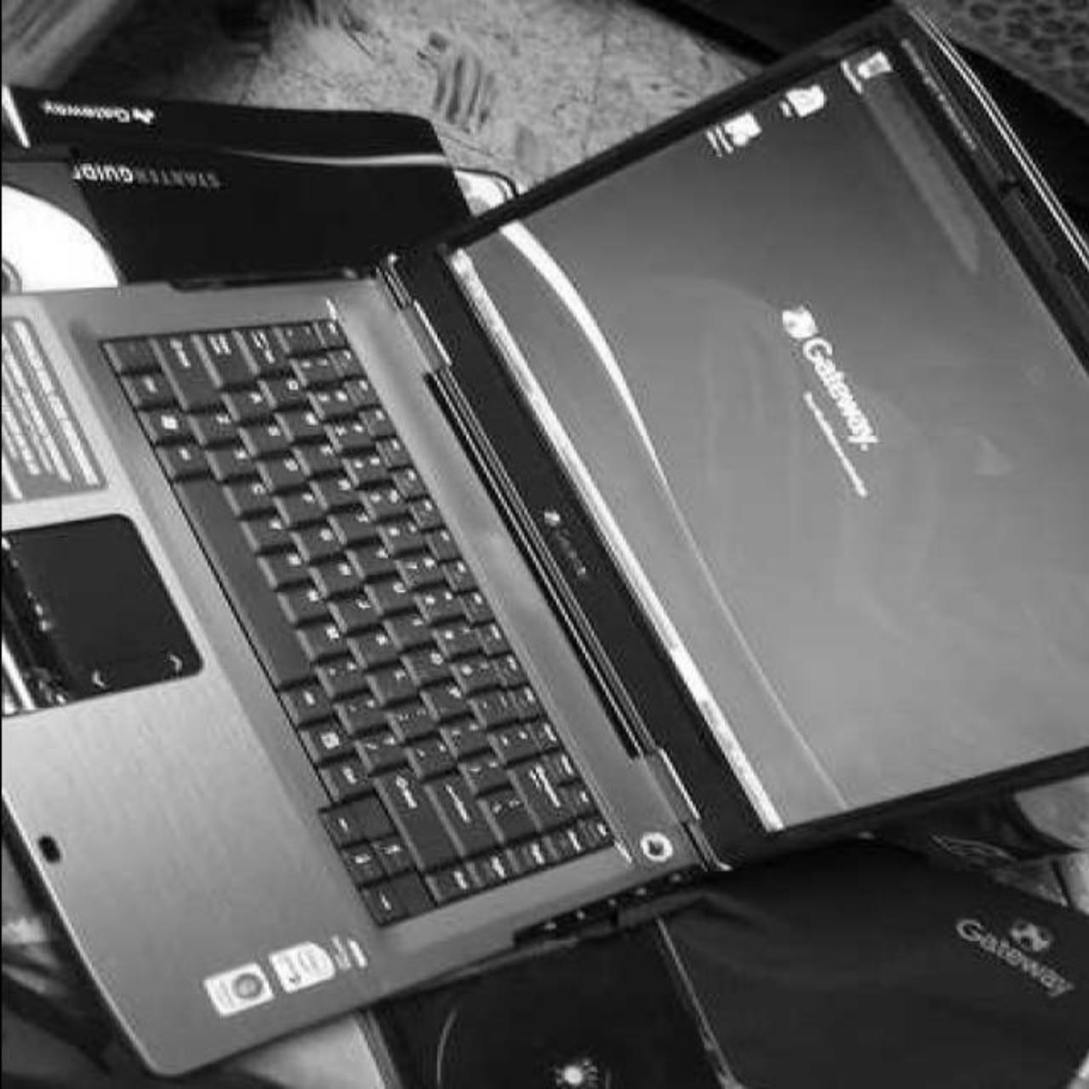laptop: (0, 16, 956, 1039)
